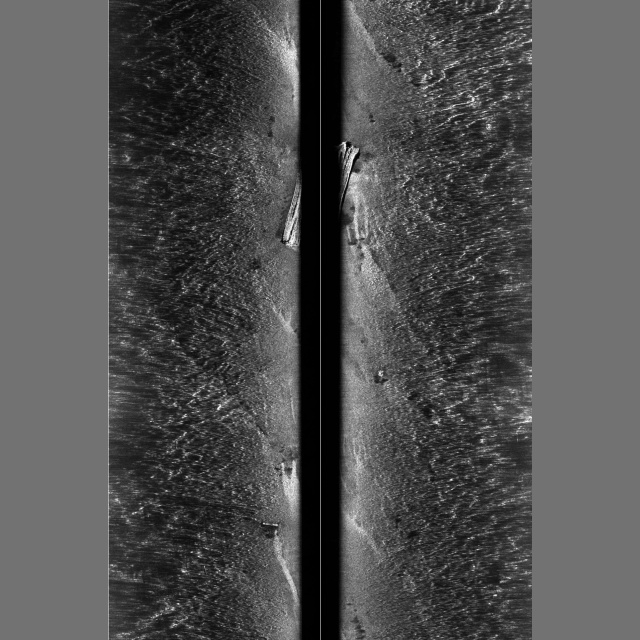Shipwreck: (262, 141, 360, 526)
